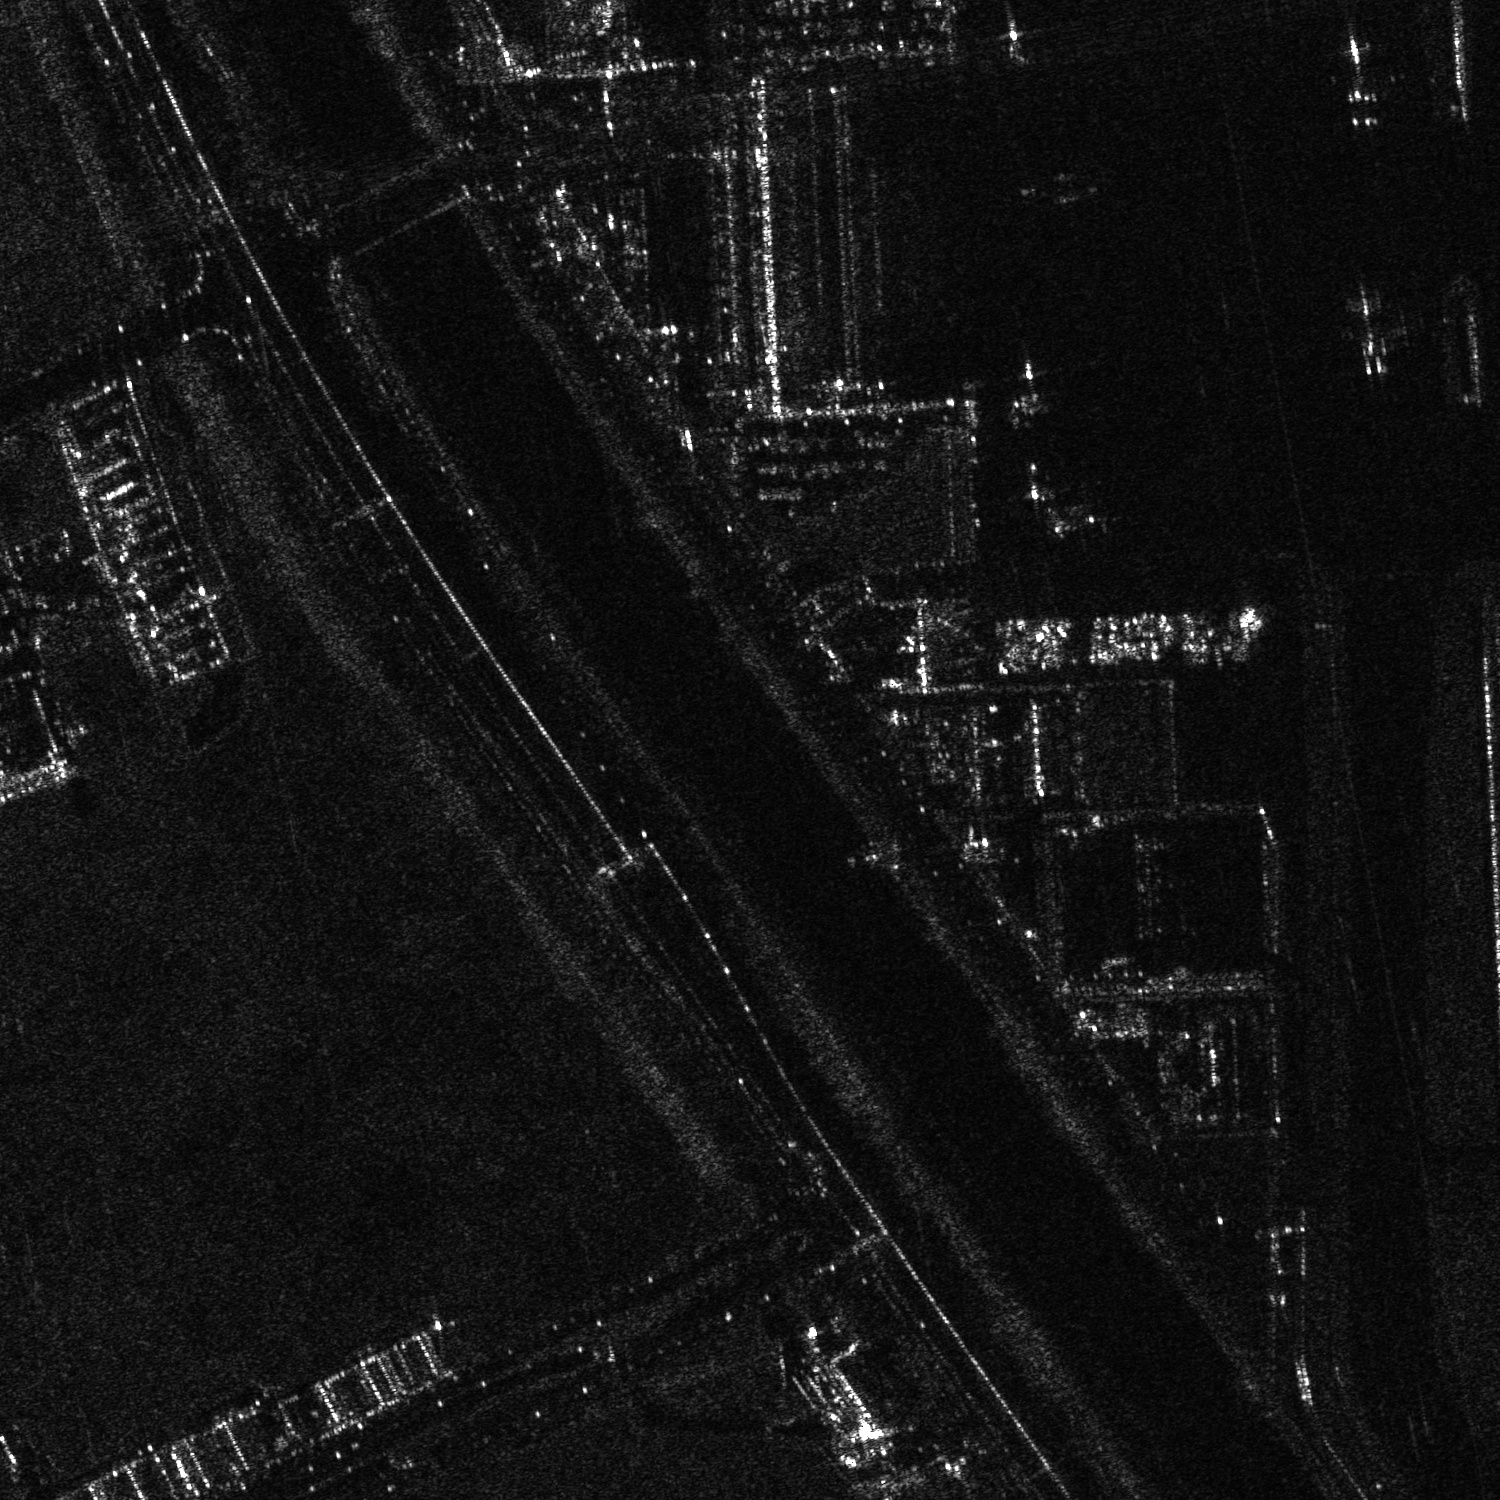A220: (1032, 473, 1130, 552)
other: (1330, 23, 1398, 130), (1342, 282, 1409, 379)
